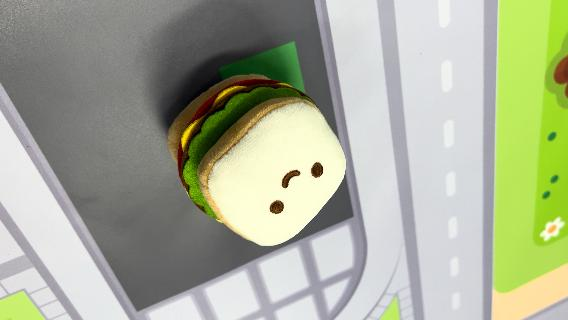sandwich: (165, 71, 349, 247)
